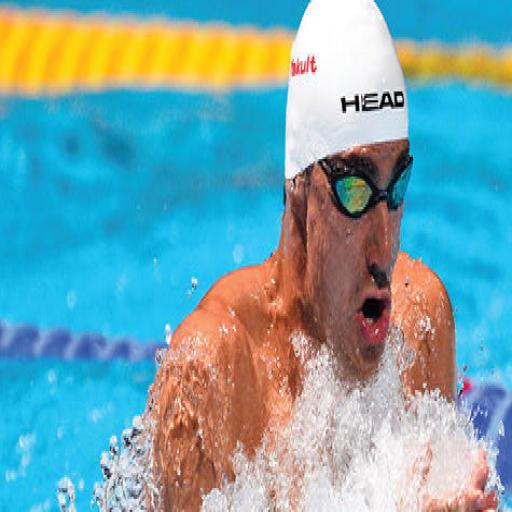swimming: (142, 0, 502, 510)
